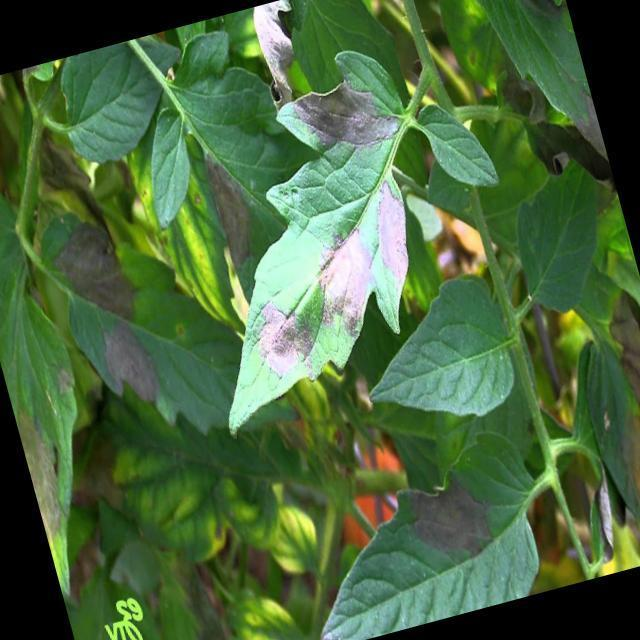Healthy Leaf: (358, 277, 534, 442), (45, 29, 202, 162), (498, 168, 619, 319), (126, 106, 204, 230), (414, 90, 500, 200)
